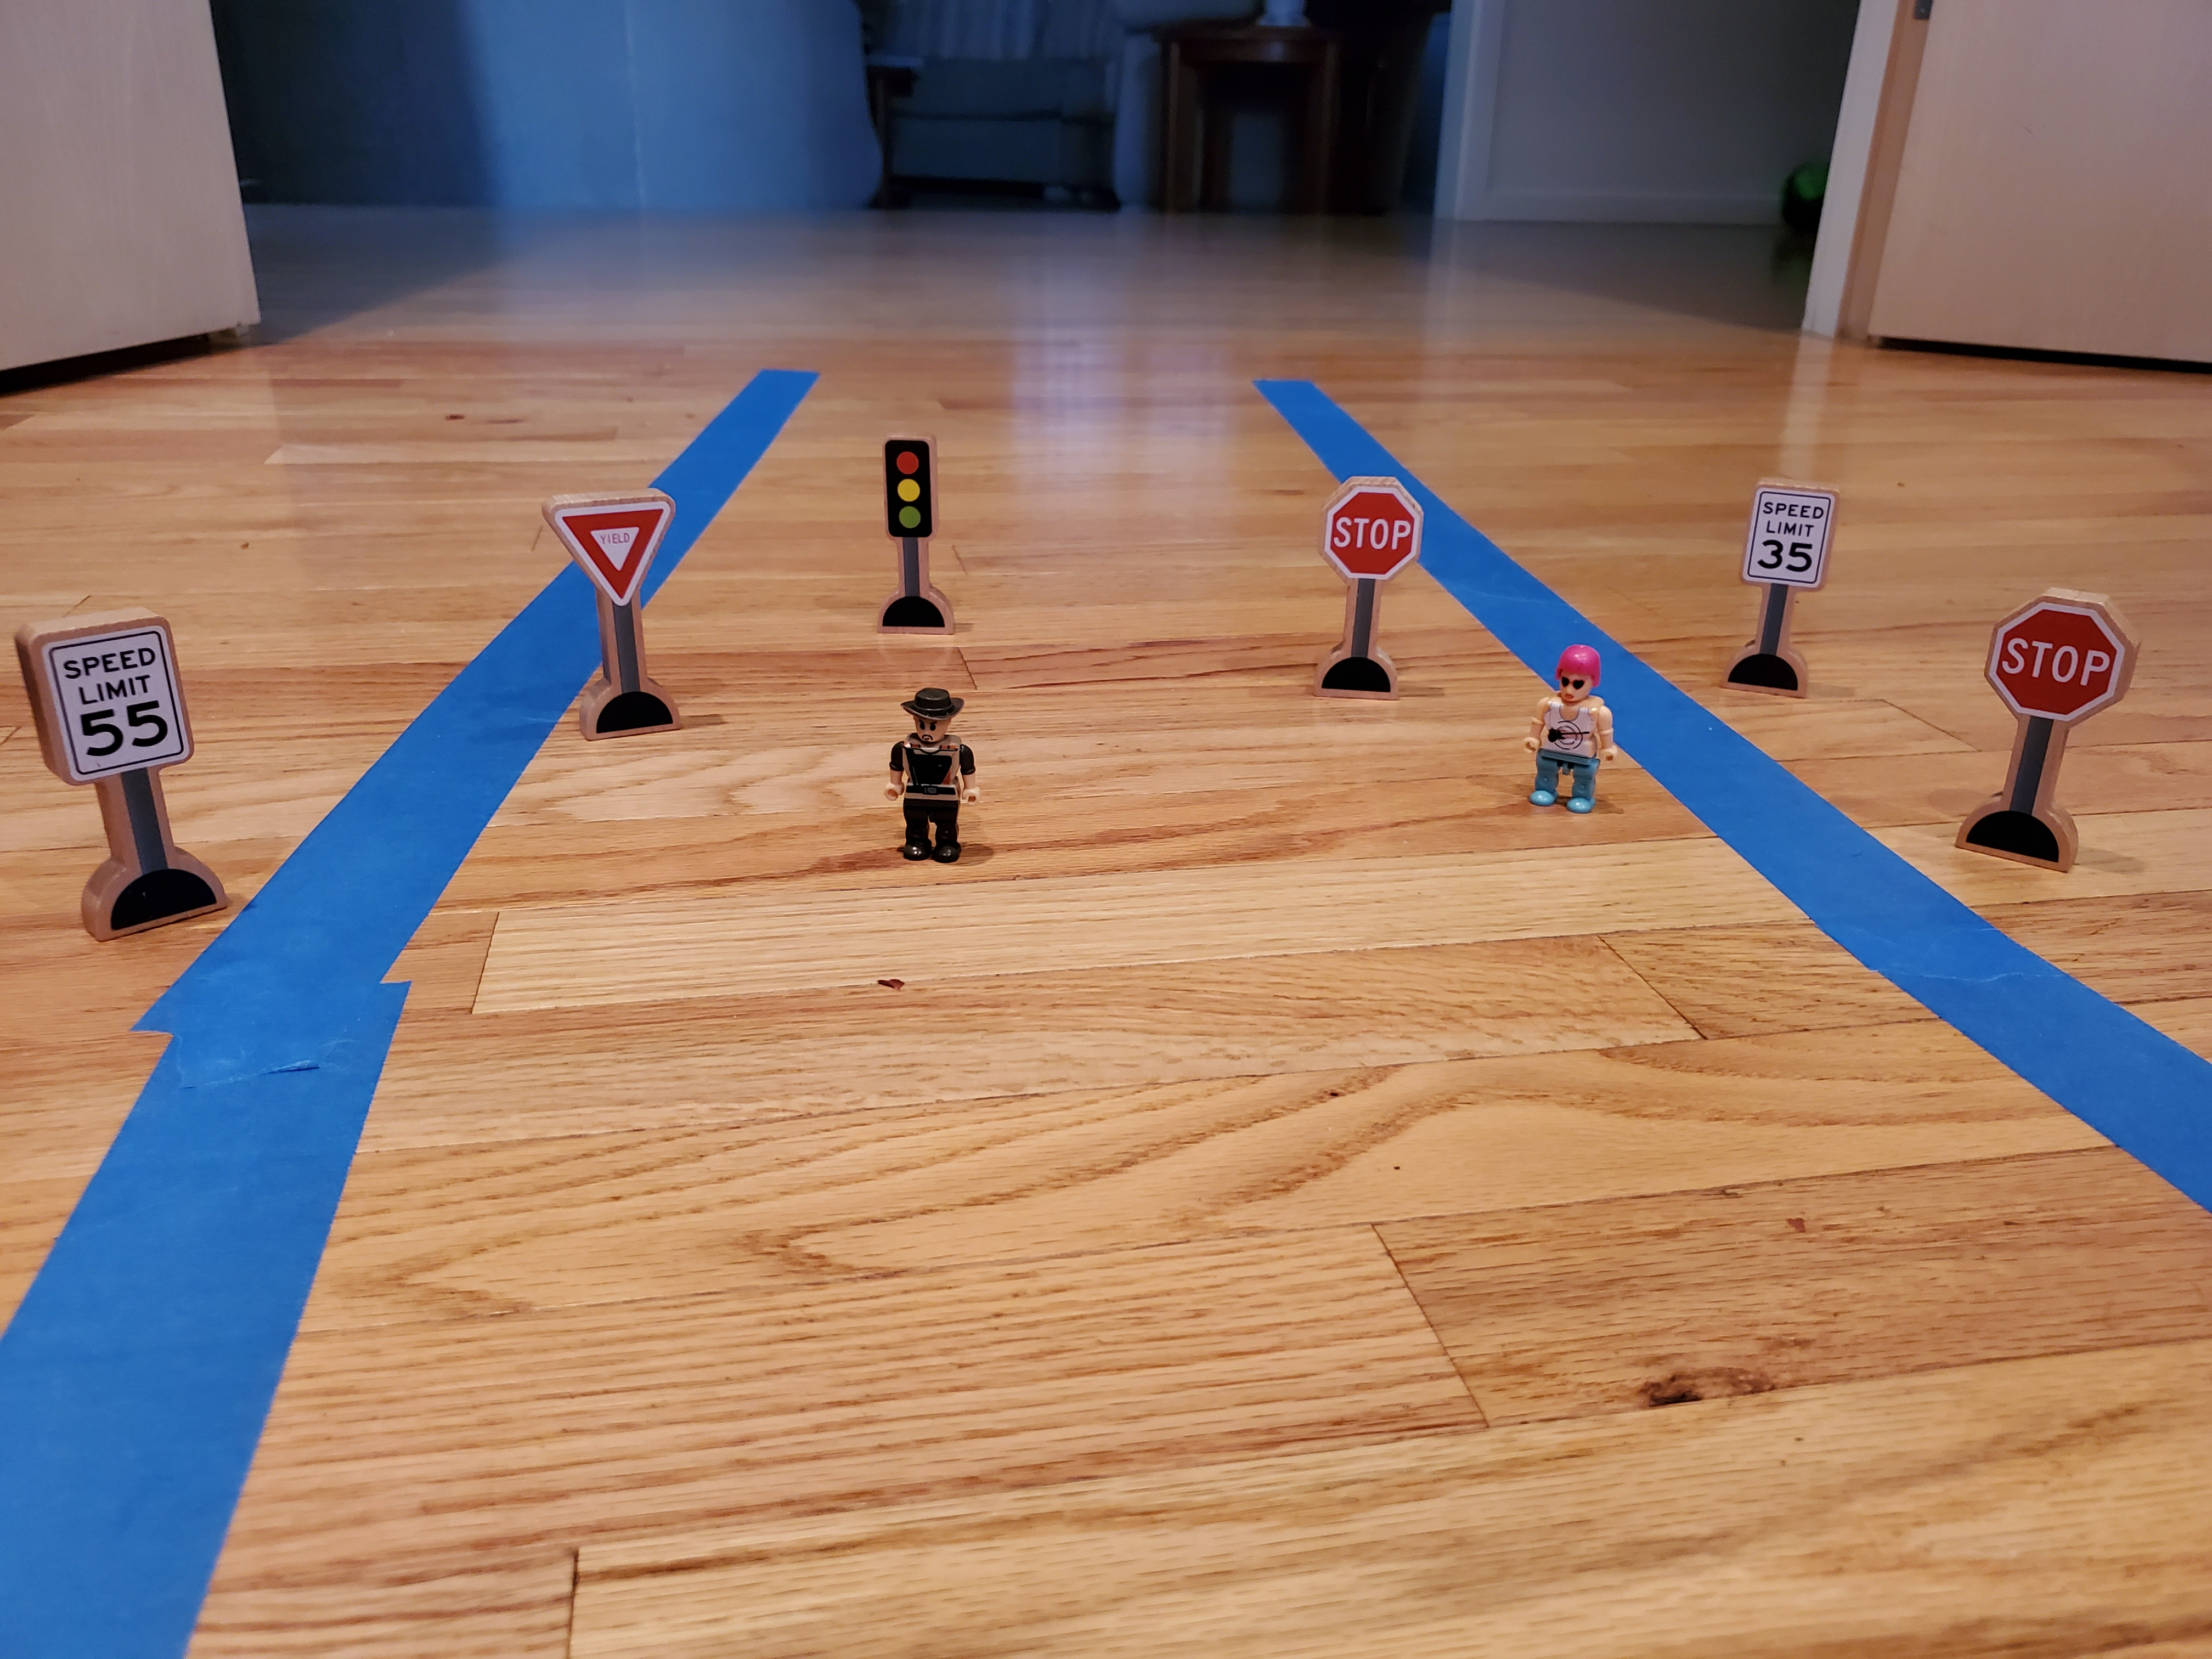Red Traffic Light: (876, 424, 940, 552)
Speed Limit 35: (1730, 459, 1842, 599)
Speed Limit 55: (15, 602, 198, 797)
Stop Sign: (1973, 570, 2161, 744), (1313, 454, 1432, 593)
Yield Sign: (537, 488, 681, 613)
person: (887, 685, 988, 872), (1517, 644, 1624, 817)
